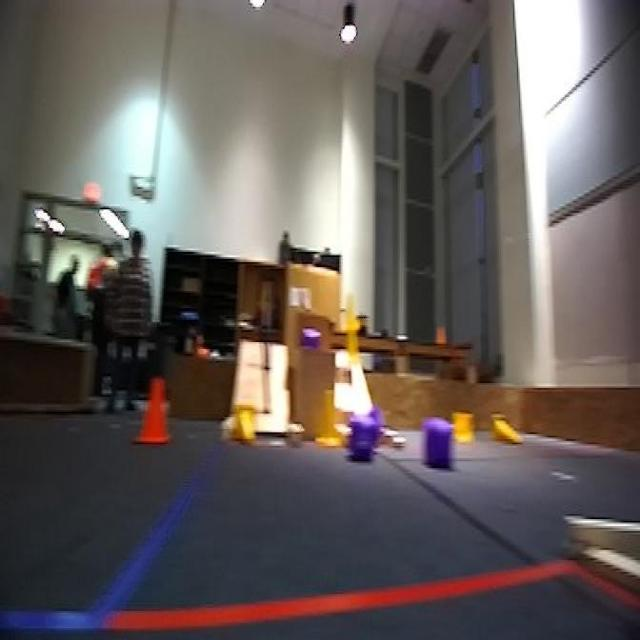frc_cone: (316, 386, 348, 451), (231, 405, 258, 448), (448, 407, 474, 449), (342, 320, 364, 368), (488, 414, 521, 446), (345, 303, 361, 334)
frc_cube: (343, 415, 373, 458), (423, 426, 454, 466), (298, 330, 319, 349)
